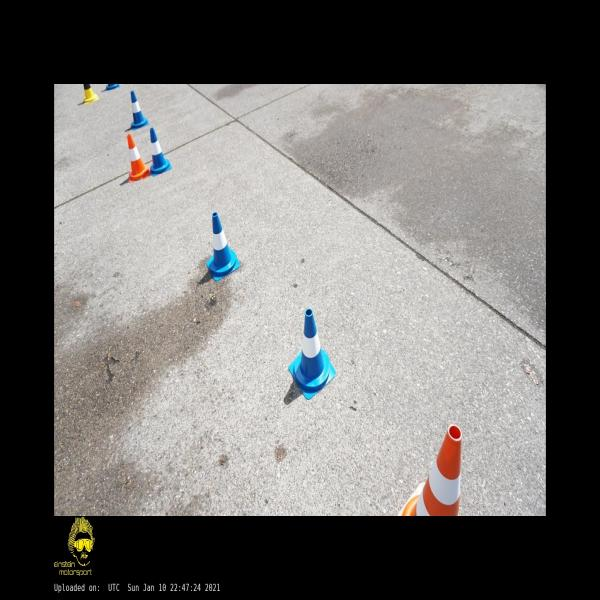blue_cone: (289, 308, 336, 400), (206, 212, 240, 281), (150, 128, 171, 176), (131, 91, 148, 130)
large_orange_cone: (397, 424, 462, 516)
orange_cone: (127, 134, 149, 182)
yellow_cone: (82, 84, 99, 104)
